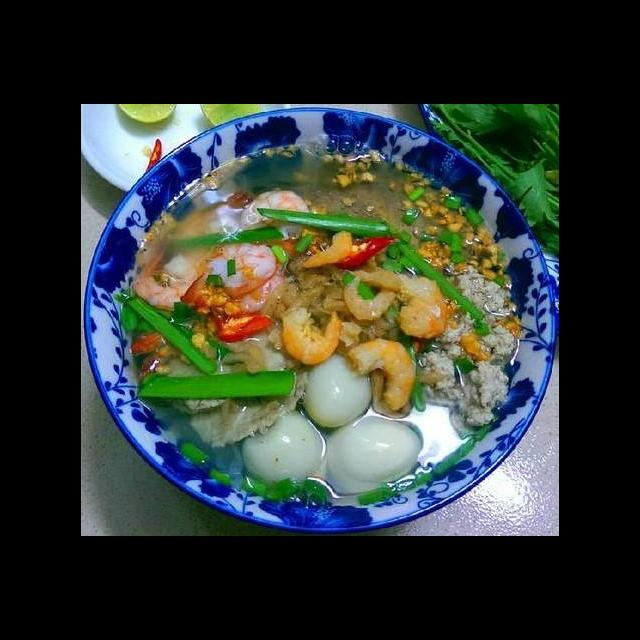thit bam: (413, 258, 524, 434)
thit heo: (182, 312, 317, 451), (152, 307, 260, 421)
tom: (345, 334, 421, 414), (127, 235, 203, 313), (198, 233, 278, 303), (238, 184, 315, 252), (274, 304, 345, 369), (342, 268, 403, 325)
trung: (318, 411, 426, 498), (238, 406, 331, 494), (302, 346, 376, 432)
